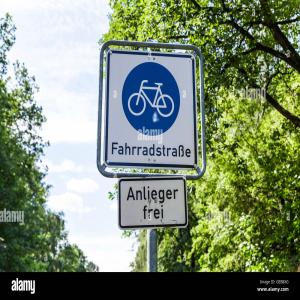CYCLES CROSSING: (114, 54, 197, 166)
